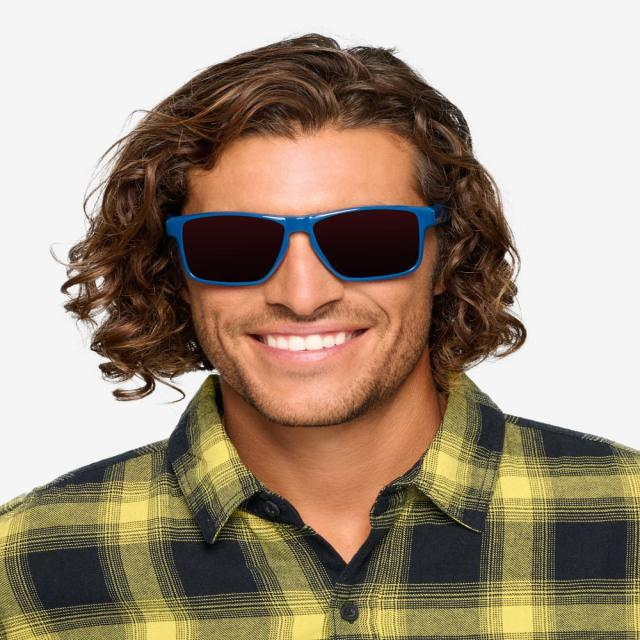2_gafas: (163, 202, 451, 287)
